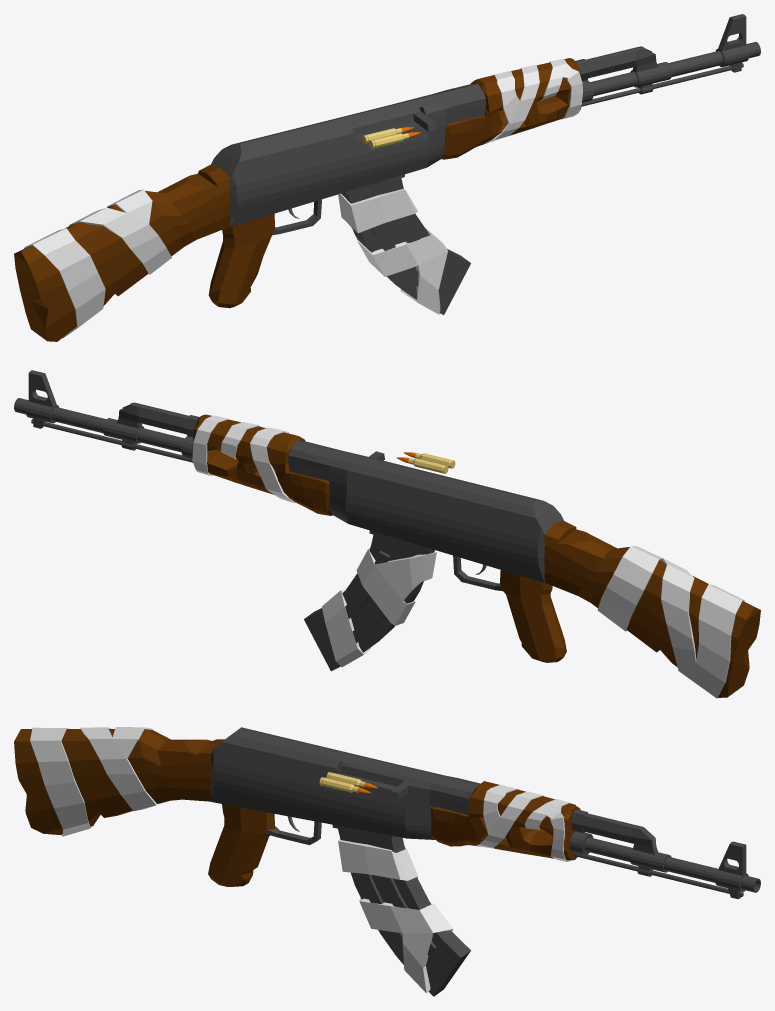
The picture shows the model from 3 angles, top to bottom: view 1: azimuth 30°, elevation 25°; view 2: azimuth 150°, elevation 25°; view 3: azimuth 330°, elevation 25°; orthographic projection.
Visible parts, largest first — view 1: Rifle, Stock, Ammunition, Slider; view 2: Rifle, Stock, Ammunition; view 3: Rifle, Stock, Ammunition, Slider.
Boxes of the visible parts, x1=… form: Rifle: x1=208, y1=14, x2=760, y2=308; Stock: x1=14, y1=164, x2=230, y2=341; Ammunition: x1=338, y1=178, x2=470, y2=314; Slider: x1=351, y1=108, x2=436, y2=135; Rifle: x1=14, y1=370, x2=566, y2=662; Stock: x1=544, y1=521, x2=760, y2=698; Ammunition: x1=304, y1=534, x2=436, y2=671; Rifle: x1=208, y1=727, x2=760, y2=898; Stock: x1=14, y1=727, x2=224, y2=836; Ammunition: x1=338, y1=828, x2=470, y2=996; Slider: x1=341, y1=761, x2=412, y2=800.
Bounding box in the file's own units: 1274 × 368 × 118.
